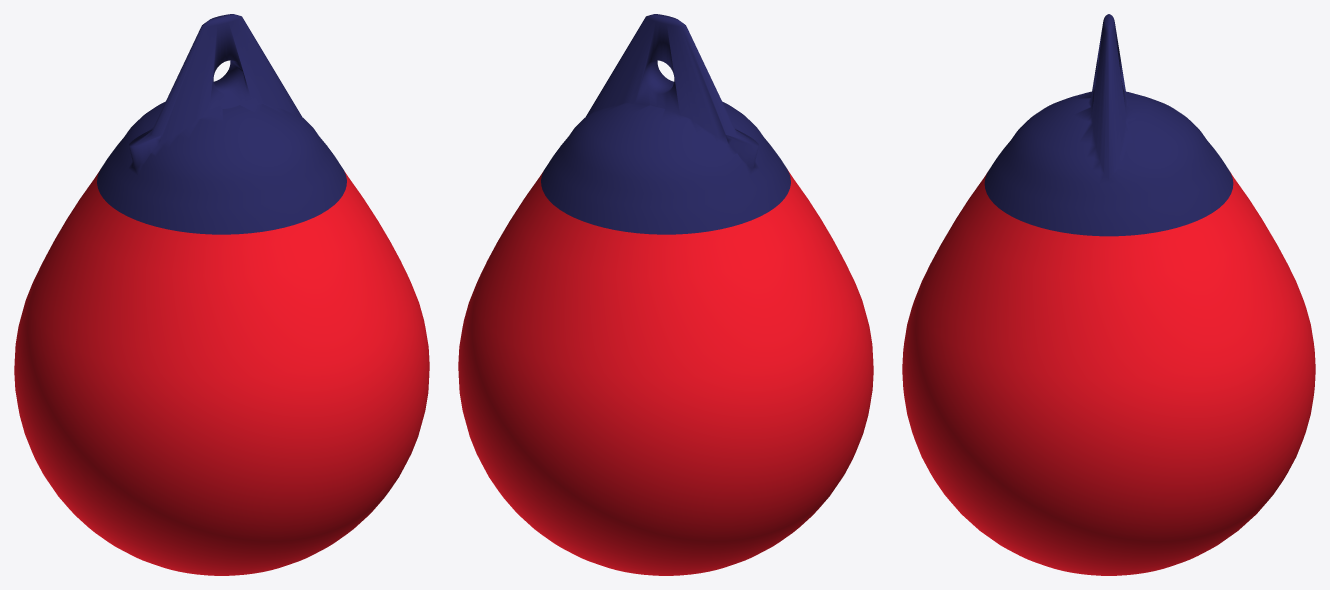
The model's file is buoy.fbx.
3 views of the same model, side by side, from view 1: azimuth 30°, elevation 25°; view 2: azimuth 150°, elevation 25°; view 3: azimuth 270°, elevation 25° (orthographic).
Parts seen in each view (by area): view 1: Buoy; view 2: Buoy; view 3: Buoy.
Part boxes in pixels (x1,y1,x2,y2): Buoy: (14,14,429,575); Buoy: (458,14,873,575); Buoy: (902,14,1315,575).
Bounding box in the file's own units: 3.17 × 4.54 × 3.17.
